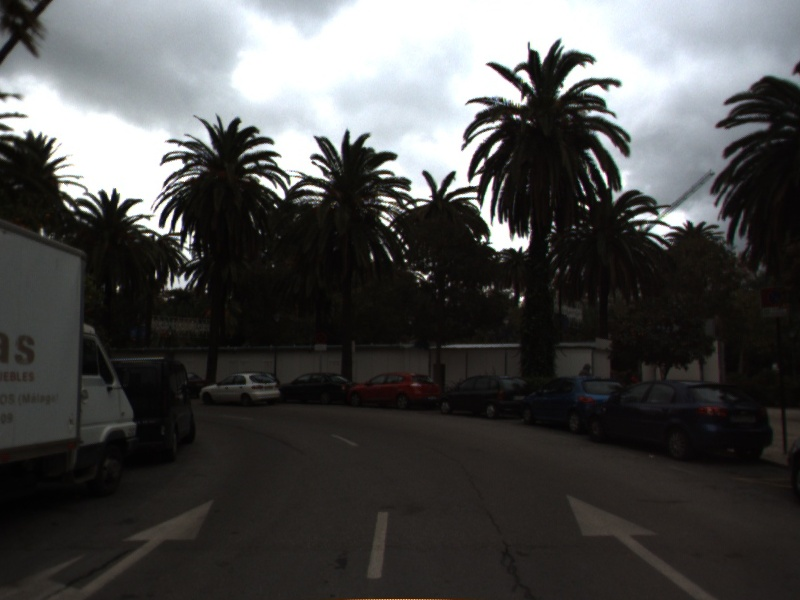STRAIGHT: (565, 493, 721, 600)
STRAIGHT_LEFT: (1, 494, 220, 600)
